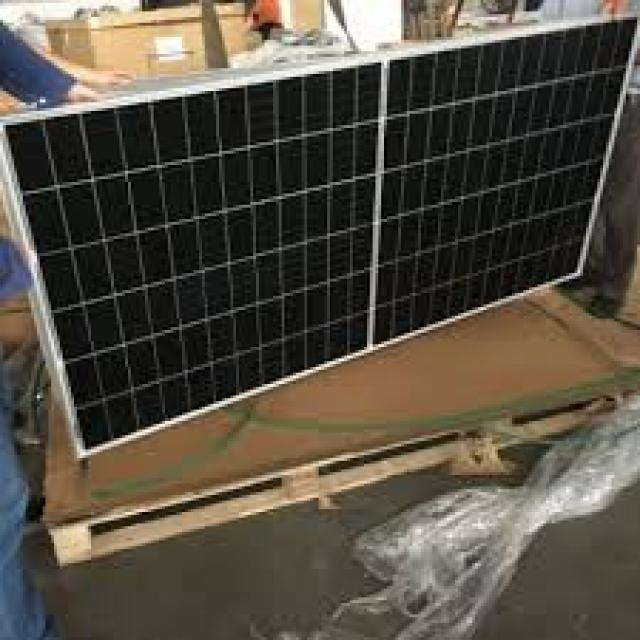no faulty: (6, 63, 376, 447), (381, 24, 632, 343)
